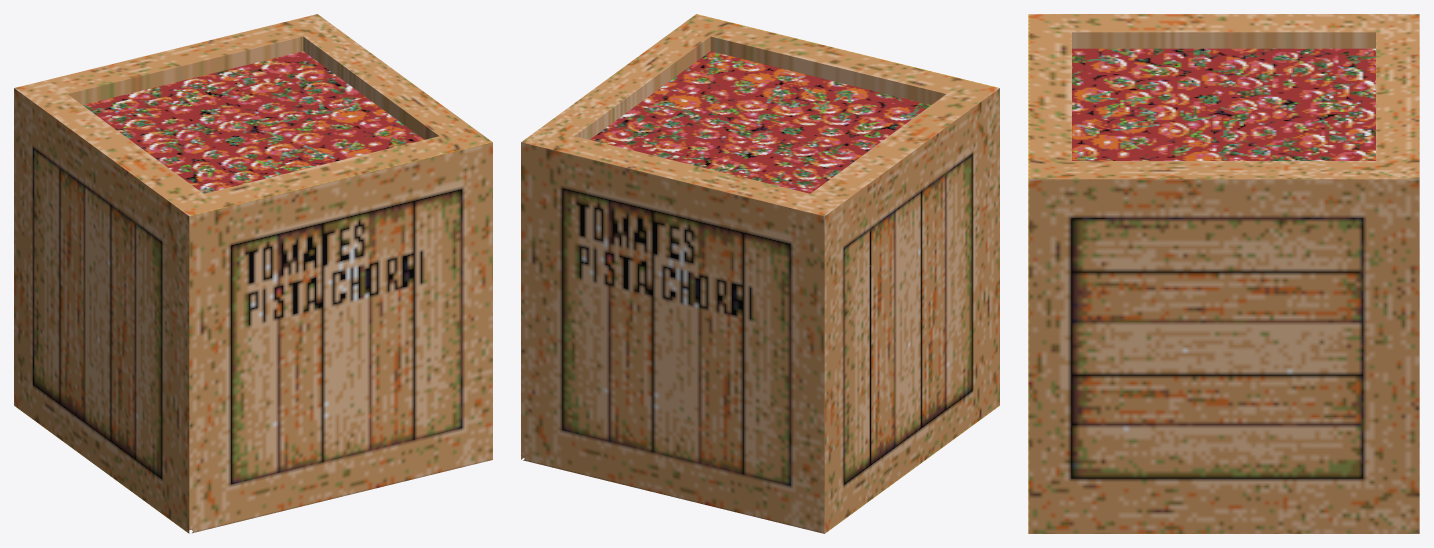
File: TomatesCajaAbierto.fbx
3 renders of one model, left to right at view 1: azimuth 30°, elevation 25°; view 2: azimuth 150°, elevation 25°; view 3: azimuth 270°, elevation 25°, orthographic. The views are drawn at different scales.
Visible parts, largest first — view 1: TomatesCajaAbierto; view 2: TomatesCajaAbierto; view 3: TomatesCajaAbierto.
Boxes of the visible parts, x1,y1,x2,y2 form: TomatesCajaAbierto: (14, 14, 492, 533); TomatesCajaAbierto: (521, 14, 999, 533); TomatesCajaAbierto: (1028, 14, 1419, 533).
Bounding box in the file's own units: 1 × 1 × 1.
